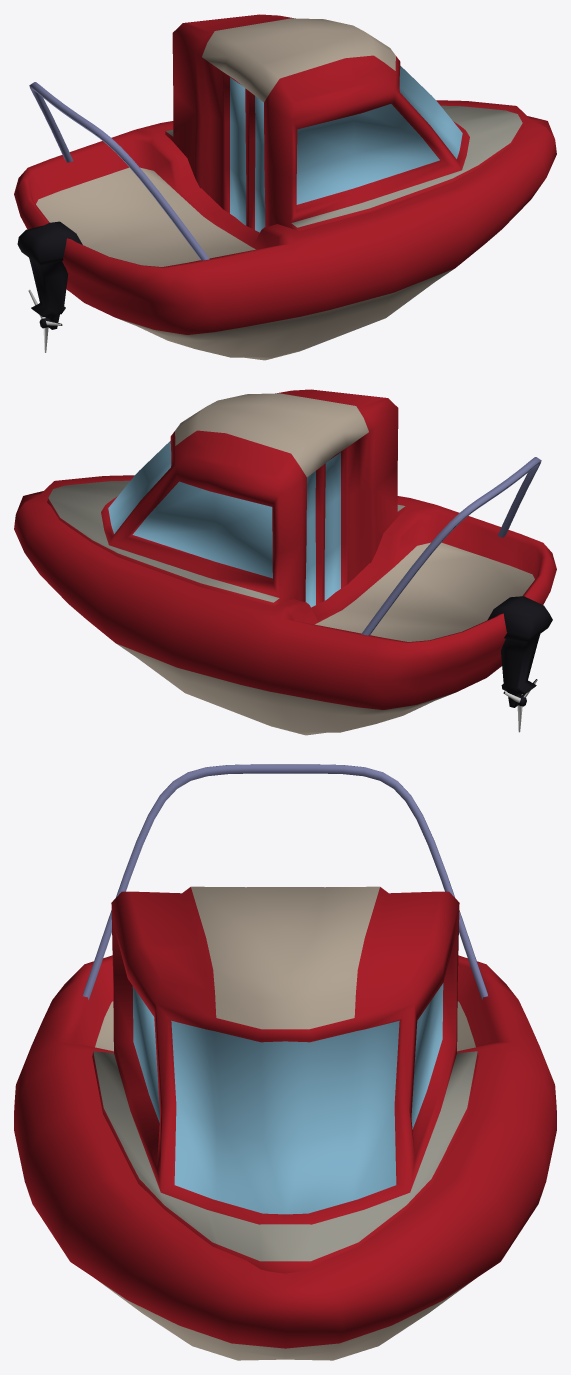
The model's file is Boat.glb.
3 renders of one model, top to bottom at view 1: azimuth 30°, elevation 25°; view 2: azimuth 150°, elevation 25°; view 3: azimuth 270°, elevation 25°, orthographic. The views are drawn at different scales.
Parts seen in each view (by area): view 1: Cube.005; view 2: Cube.005; view 3: Cube.005.
Part boxes in pixels (left/top/right/bottom): Cube.005: left=14, top=14, right=556, bottom=360; Cube.005: left=14, top=389, right=556, bottom=735; Cube.005: left=14, top=764, right=556, bottom=1360.
Size of the model in its own units: 1.89 by 0.9855 by 1.18.
